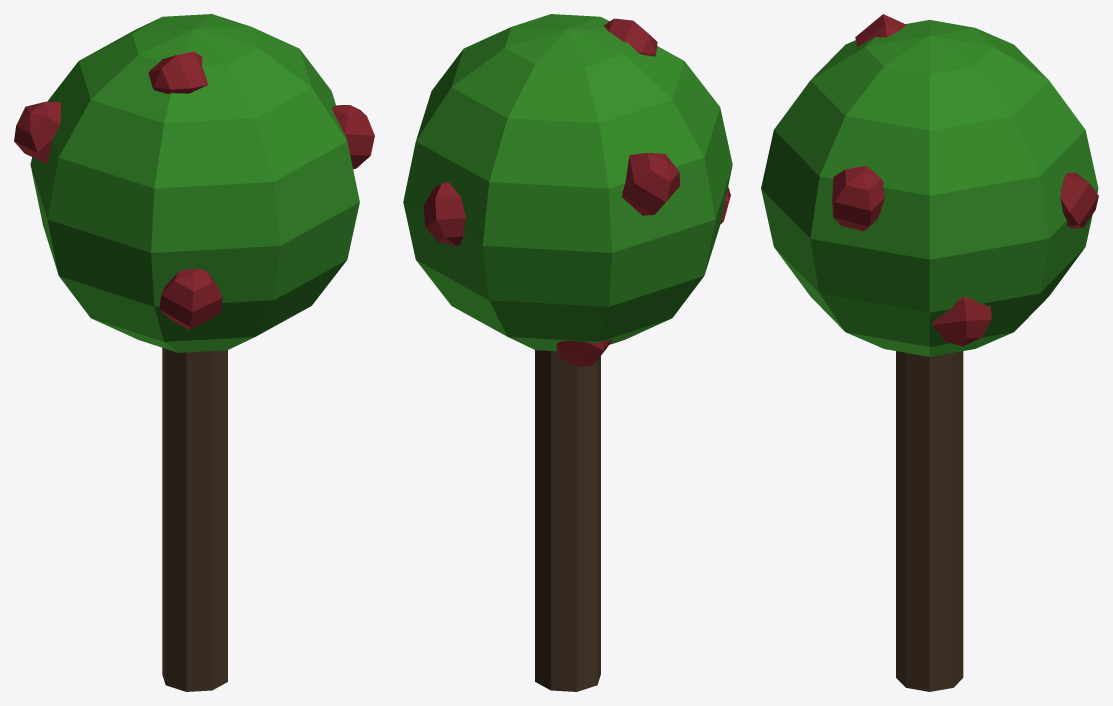
Rendered from Noak Tree.fbx.
3 views of the same model, side by side, from view 1: azimuth 30°, elevation 25°; view 2: azimuth 150°, elevation 25°; view 3: azimuth 270°, elevation 25° (orthographic).
Visible parts, largest first — view 1: Noak Tree Leaves, Noak Tree Trunk, Noak Tree Fruits; view 2: Noak Tree Leaves, Noak Tree Trunk, Noak Tree Fruits; view 3: Noak Tree Leaves, Noak Tree Trunk, Noak Tree Fruits.
Part boxes in pixels (x1,y1,x2,y2): Noak Tree Leaves: [30, 14, 359, 352]; Noak Tree Trunk: [162, 348, 227, 691]; Noak Tree Fruits: [14, 51, 374, 329]; Noak Tree Leaves: [403, 14, 732, 351]; Noak Tree Trunk: [535, 350, 600, 691]; Noak Tree Fruits: [423, 18, 730, 367]; Noak Tree Leaves: [761, 20, 1098, 356]; Noak Tree Trunk: [896, 351, 963, 691]; Noak Tree Fruits: [832, 14, 1098, 346].
Bounding box in the file's own units: 50 × 105 × 50.07.
